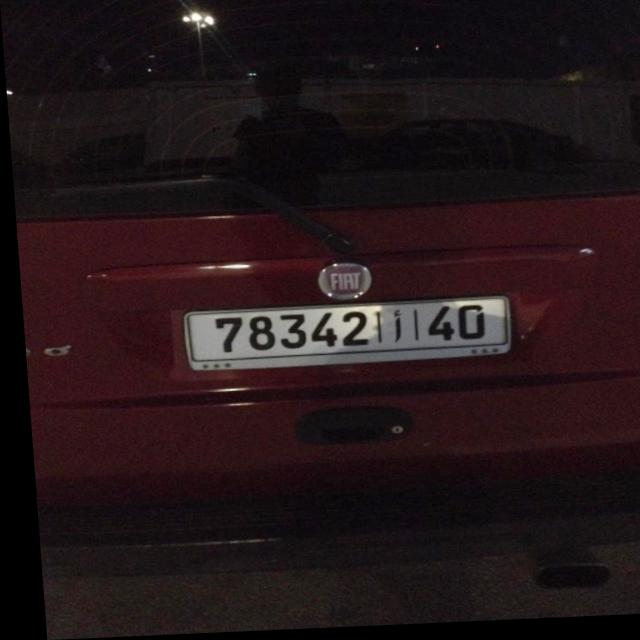License-Plate: (179, 301, 505, 372)
